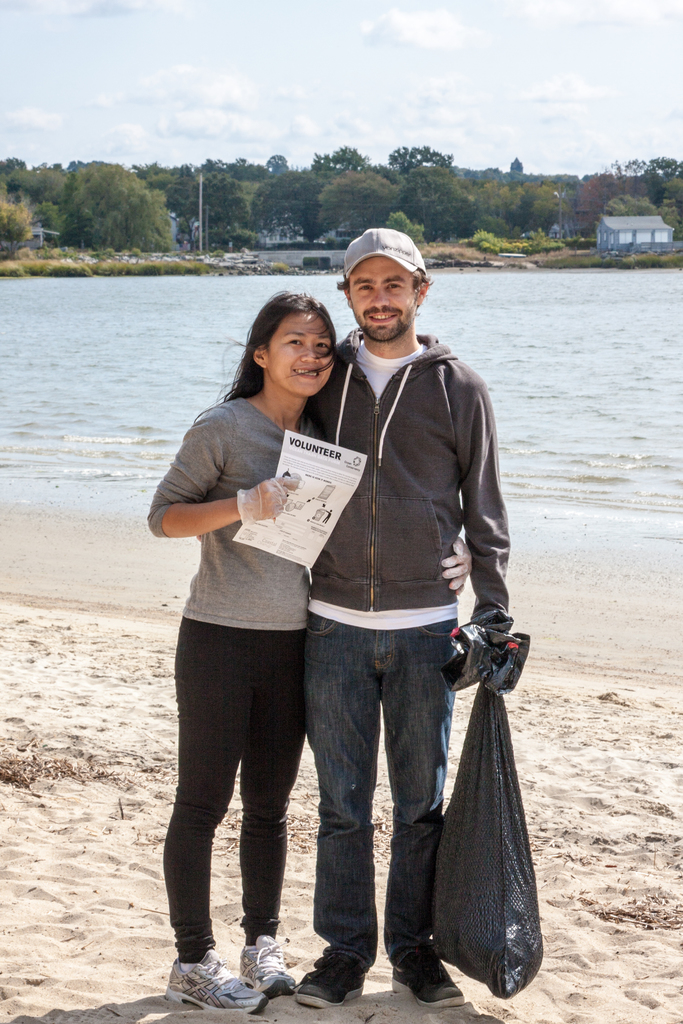Footwear: (159, 950, 265, 1015), (310, 943, 376, 1004), (393, 959, 468, 1003), (238, 938, 288, 1003)
